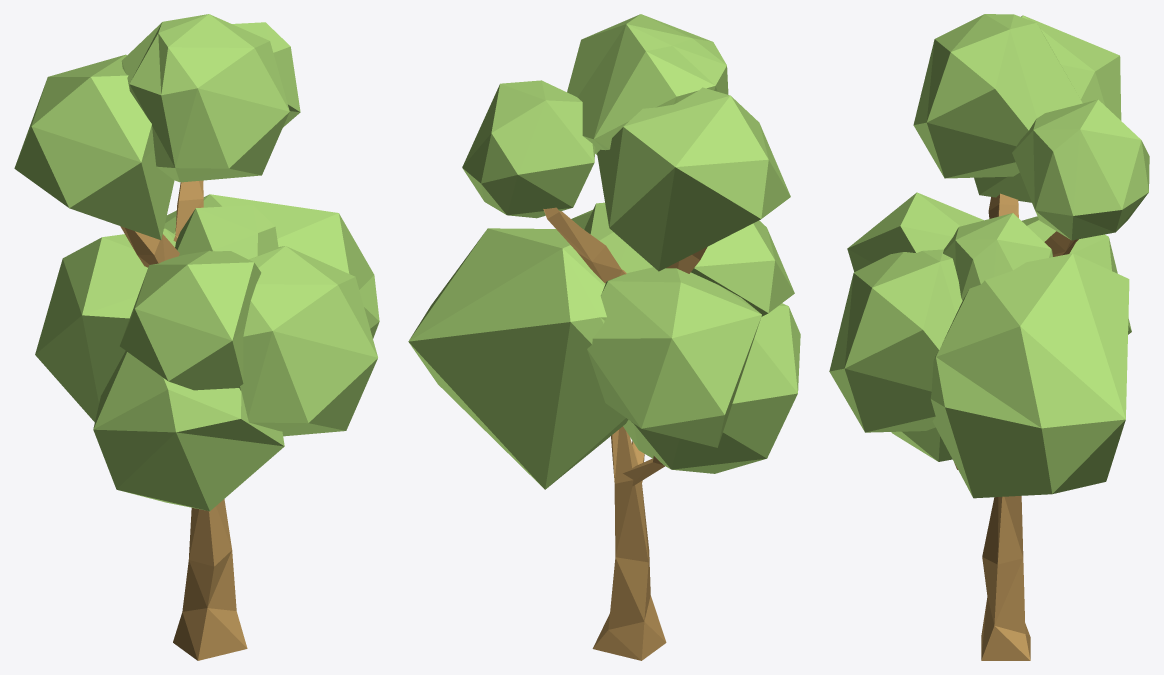
File: ArvoreGrande.fbx
The picture shows the model from 3 angles, left to right: view 1: azimuth 30°, elevation 25°; view 2: azimuth 150°, elevation 25°; view 3: azimuth 270°, elevation 25°; orthographic projection.
Parts seen in each view (by area): view 1: arvore_grande; view 2: arvore_grande; view 3: arvore_grande.
Boxes of the visible parts, x1,y1,x2,y2 form: arvore_grande: [14, 14, 379, 660]; arvore_grande: [408, 14, 800, 660]; arvore_grande: [829, 14, 1149, 660].
Size of the model in its own units: 11.07 by 19.2 by 8.99.
